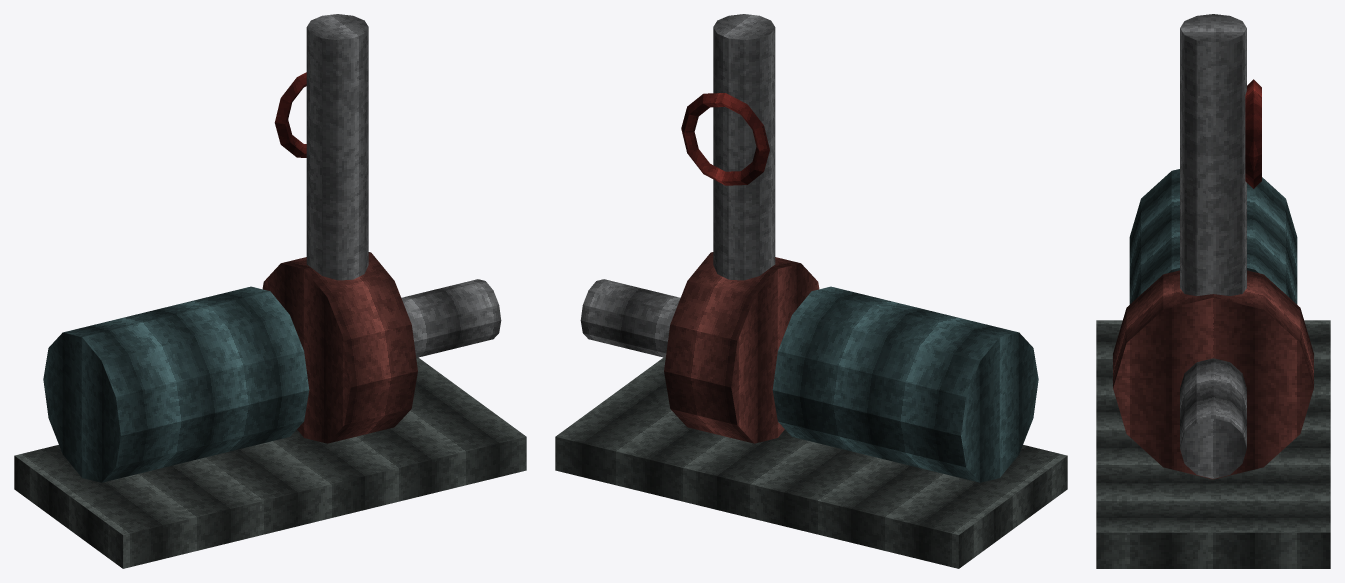
Rendered from pump.glb.
3 renders of one model, left to right at view 1: azimuth 30°, elevation 25°; view 2: azimuth 150°, elevation 25°; view 3: azimuth 270°, elevation 25°, orthographic. The views are drawn at different scales.
Visible parts, largest first — view 1: pump; view 2: pump; view 3: pump.
Boxes of the visible parts, x1,y1,x2,y2 form: pump: (14,14,526,568); pump: (555,14,1067,568); pump: (1096,14,1330,568).
Bounding box in the file's own units: 1.55 × 1.55 × 0.7.
Materials: 5 (5 with a texture image).
